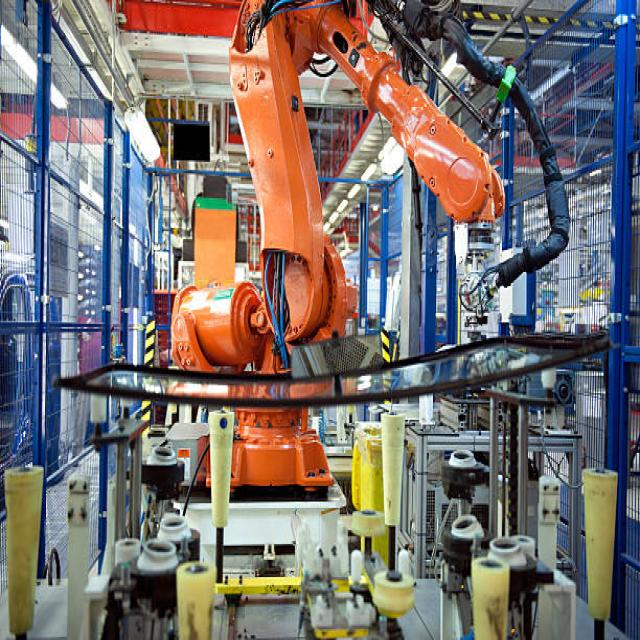Robotic-arm: (168, 0, 500, 495)
